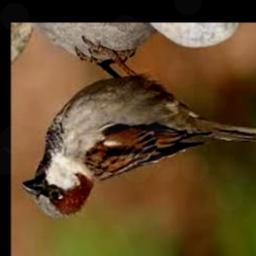Sparrow: (22, 37, 256, 217)
